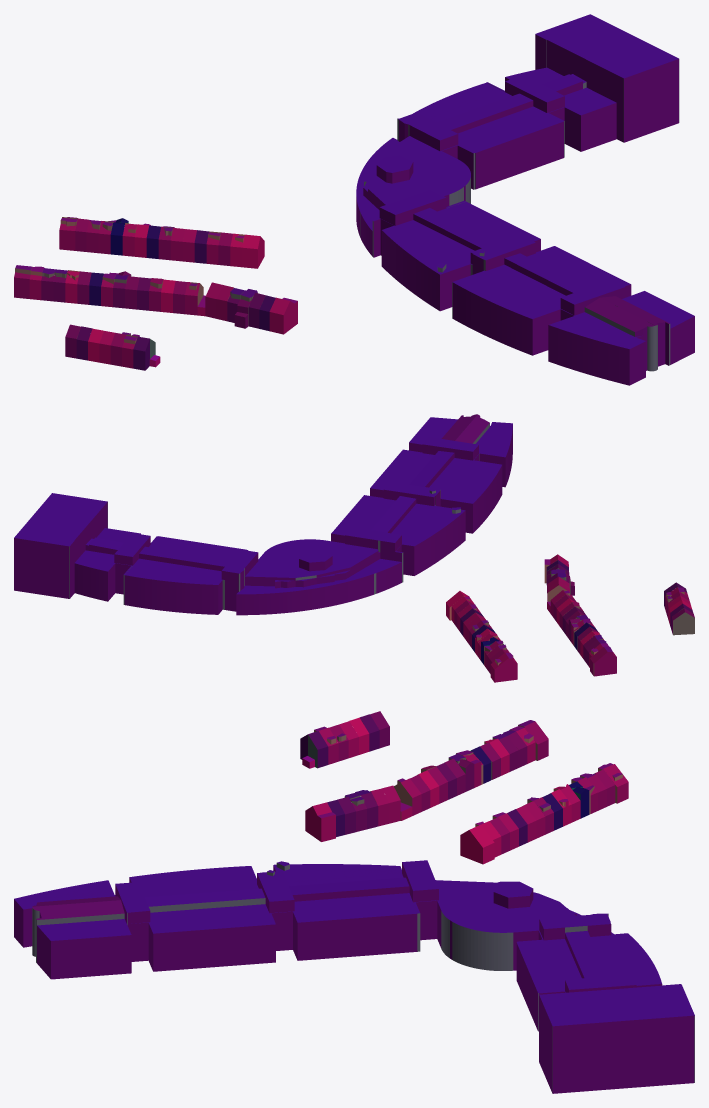
The model's file is buildings_7_4.glb.
3 renders of one model, top to bottom at view 1: azimuth 30°, elevation 25°; view 2: azimuth 150°, elevation 25°; view 3: azimuth 270°, elevation 25°, orthographic. The views are drawn at different scales.
Visible parts, largest first — view 1: buildings_7_4; view 2: buildings_7_4; view 3: buildings_7_4.
Part boxes in pixels (x1,y1,x2,y2): buildings_7_4: (14,14,694,385); buildings_7_4: (14,414,694,682); buildings_7_4: (14,711,694,1093).
Bounding box in the file's own units: 250 × 21.96 × 201.
